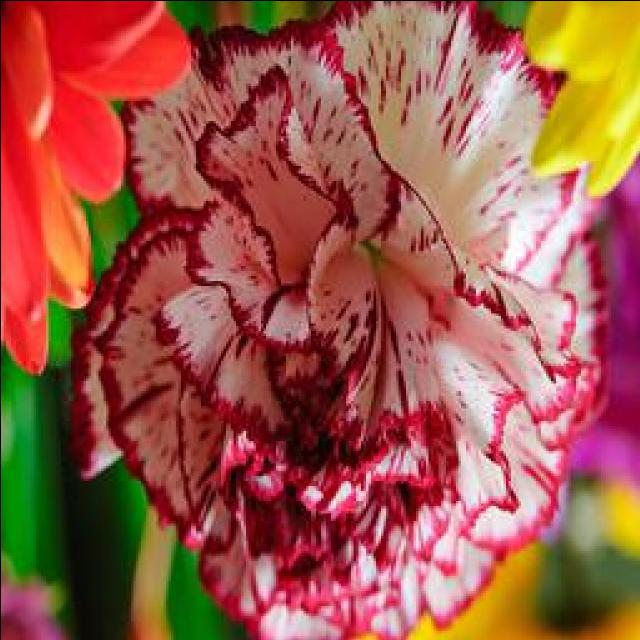carnation: (84, 0, 606, 640)
